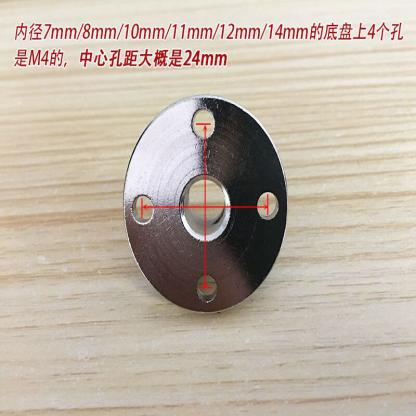FOD: (120, 86, 294, 318)
